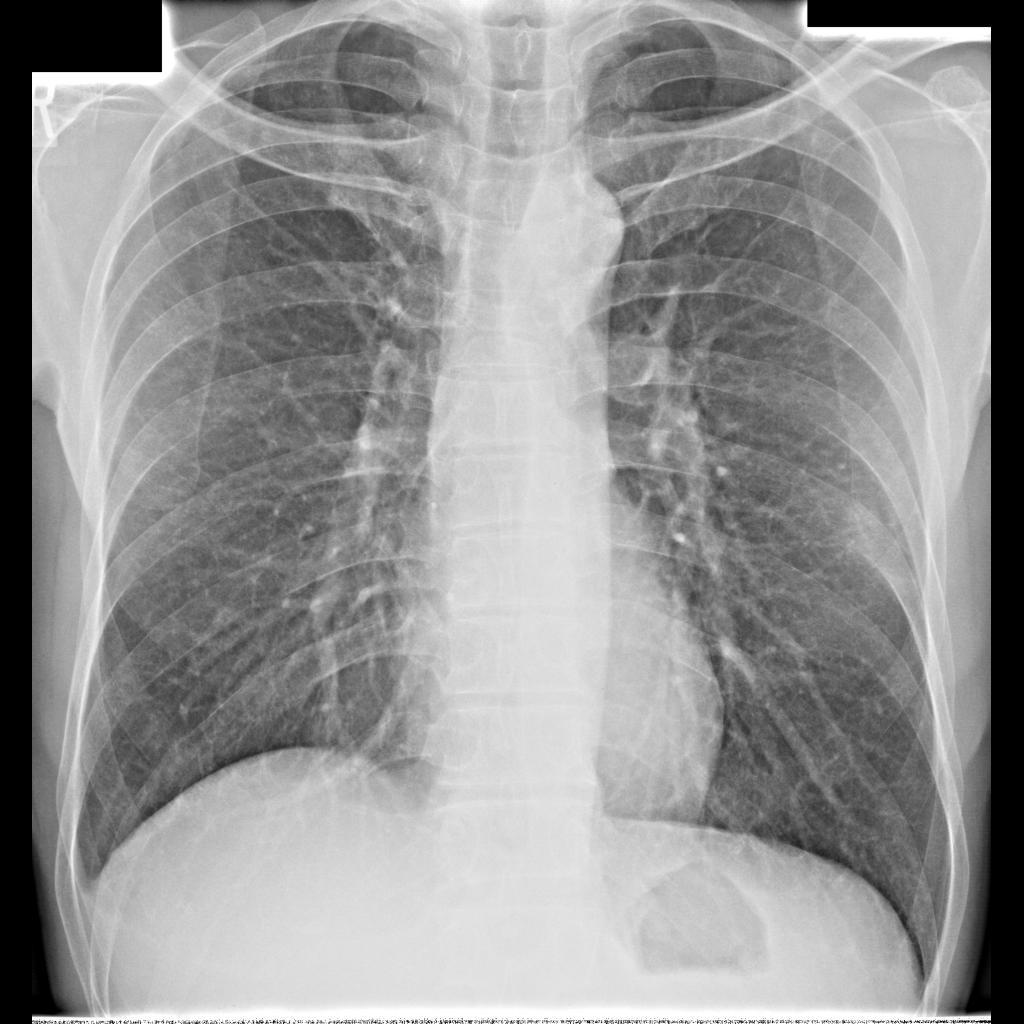Nodule: (827, 504, 890, 567)
